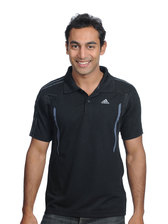clothoes: (30, 64, 150, 219)
